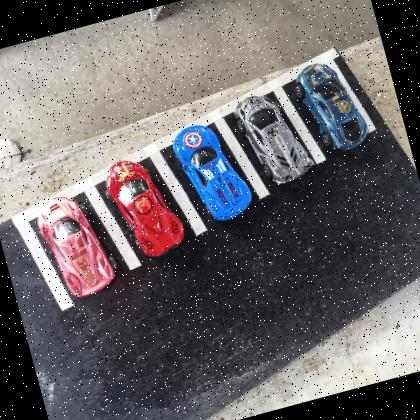Car: (98, 149, 188, 265), (32, 187, 120, 305), (170, 116, 256, 228), (231, 84, 318, 190), (289, 54, 373, 159)
